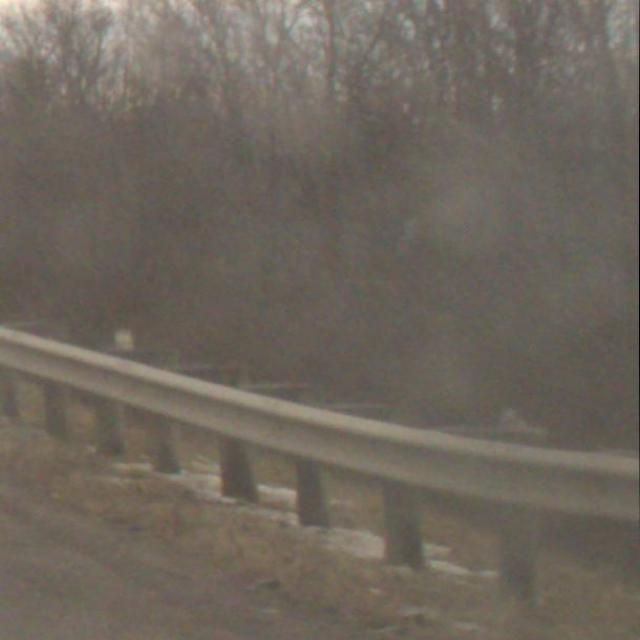Guard rail: (0, 309, 638, 616)
